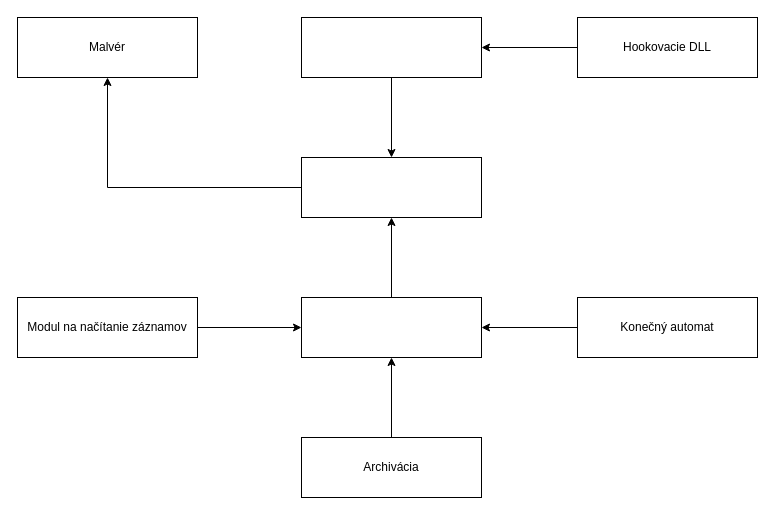
The diagram is 775 pixels wide and 515 high, and some of its shapes have lost their labels. The centre of each missing label's shape, as x and y in pixels:
"Modul na injectovanie DLL" belongs at point (391, 47).
"Modul na vyhodnocovanie" belongs at point (391, 327).
"Softvér na detegovanie" belongs at point (391, 187).
